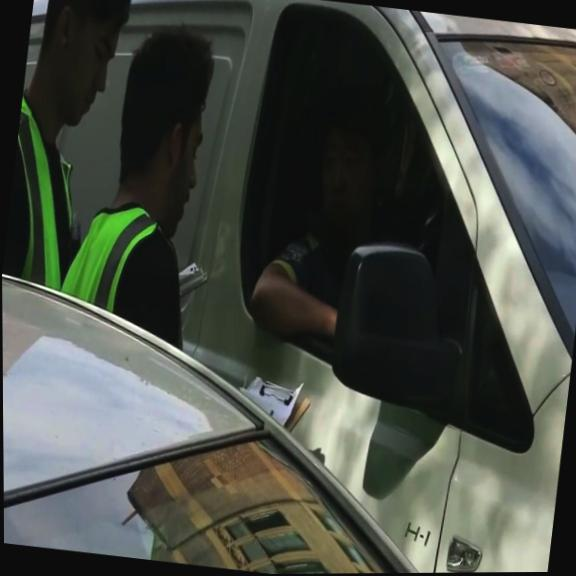safety_vest: (1, 90, 88, 294), (53, 190, 163, 317)
